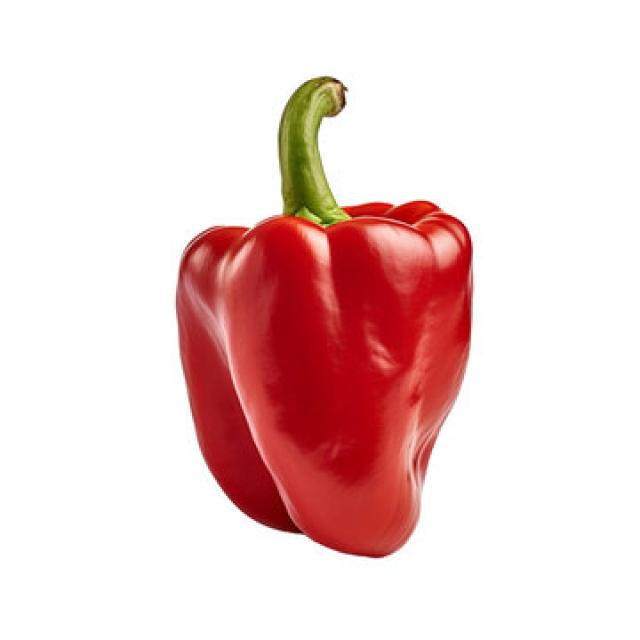Bell Pepper: (183, 76, 482, 559)
